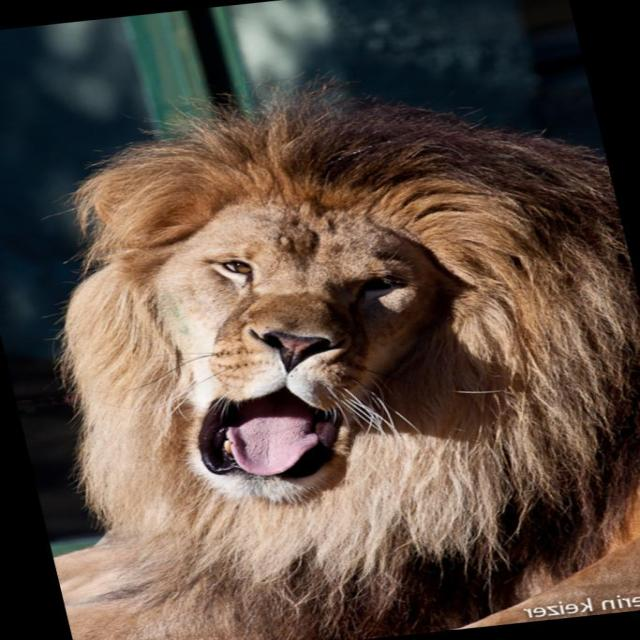Lion: (0, 40, 639, 639)
